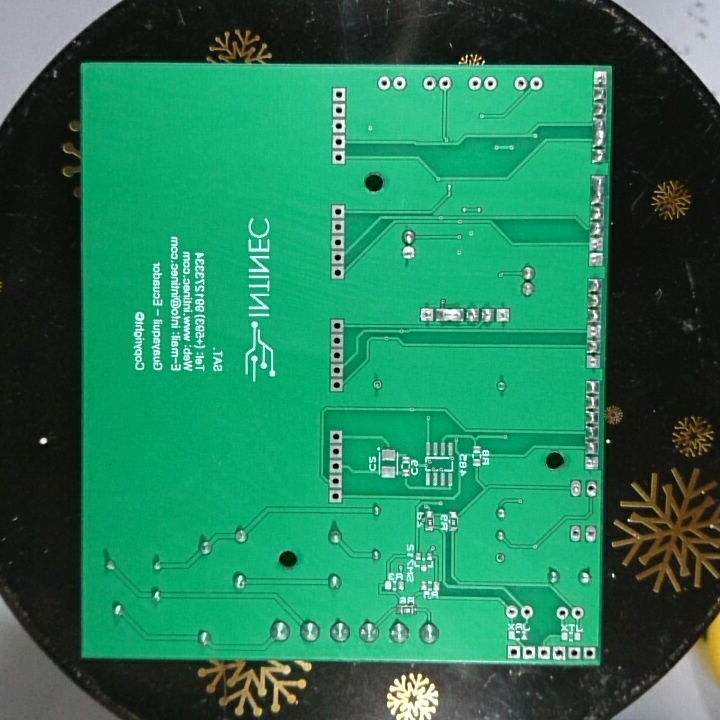F: (584, 477, 598, 503), (503, 603, 521, 623), (330, 149, 347, 170), (585, 252, 604, 269), (568, 477, 582, 500), (492, 549, 508, 569), (517, 605, 535, 622), (331, 84, 347, 103), (329, 489, 346, 506), (370, 378, 386, 396), (330, 263, 346, 281), (584, 455, 599, 474), (568, 524, 582, 544), (418, 306, 435, 322), (401, 244, 418, 260), (330, 378, 346, 395), (327, 474, 344, 490), (513, 75, 528, 93), (436, 74, 451, 92), (328, 347, 346, 362), (556, 604, 570, 623), (585, 354, 601, 370), (330, 219, 346, 235), (536, 644, 551, 661), (483, 75, 498, 92), (330, 135, 347, 150), (330, 204, 347, 219), (330, 332, 345, 349), (496, 309, 512, 324), (569, 606, 584, 622), (551, 646, 567, 661), (589, 236, 604, 252), (467, 75, 482, 91), (391, 75, 406, 91), (332, 103, 348, 118), (331, 249, 346, 265), (330, 363, 346, 378), (330, 443, 345, 459), (582, 644, 596, 661), (506, 644, 520, 661), (422, 75, 436, 92), (330, 318, 344, 335), (585, 523, 594, 549), (593, 71, 608, 86), (332, 119, 347, 134), (331, 235, 346, 250), (329, 429, 344, 444), (330, 459, 344, 475), (567, 643, 580, 660), (530, 75, 543, 92), (377, 75, 390, 92), (521, 646, 536, 660), (587, 325, 601, 339)
P: (435, 305, 462, 323), (593, 118, 607, 149), (591, 175, 604, 205)
